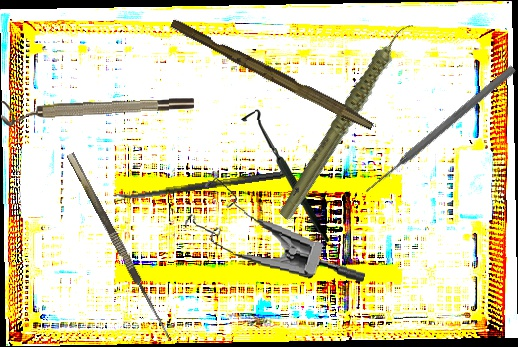Fixation Ring: (0, 94, 195, 127)
Handpiece: (244, 19, 452, 223)
Hook Surgical: (66, 146, 183, 344), (241, 107, 329, 246)
Pusher: (361, 63, 518, 197)
Scalpel Handle: (167, 17, 378, 131)
Speculum: (180, 174, 374, 285)
Surgical Spoon: (113, 170, 284, 202)
